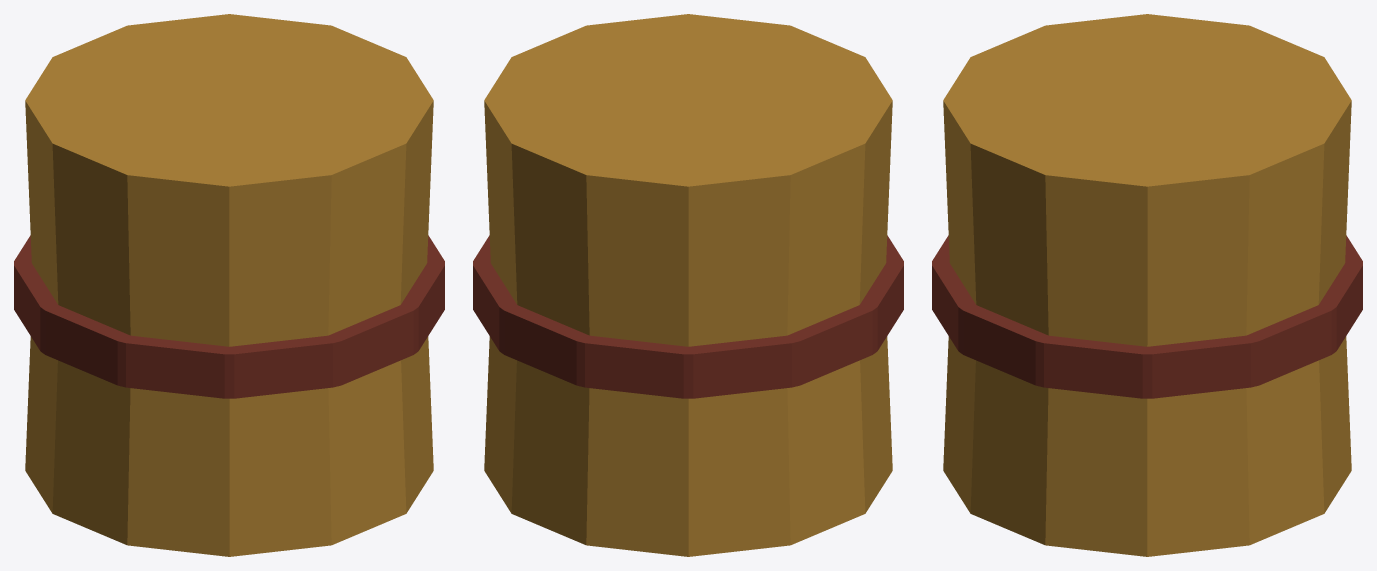
Rendered from HayBale.fbx.
The picture shows the model from 3 angles, left to right: view 1: azimuth 30°, elevation 25°; view 2: azimuth 150°, elevation 25°; view 3: azimuth 270°, elevation 25°; orthographic projection.
Parts seen in each view (by area): view 1: Cylinder; view 2: Cylinder; view 3: Cylinder.
Part boxes in pixels (left/top/right/bottom): Cylinder: left=14, top=14, right=444, bottom=556; Cylinder: left=473, top=14, right=903, bottom=556; Cylinder: left=932, top=14, right=1362, bottom=556.
Bounding box in the file's own units: 218 × 207 × 218.
